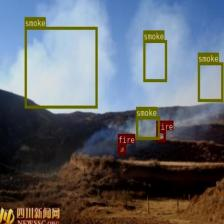fire: (156, 130, 165, 141), (118, 144, 125, 154)
smoke: (24, 26, 97, 108), (197, 62, 223, 101), (143, 40, 167, 82), (136, 116, 160, 139)
